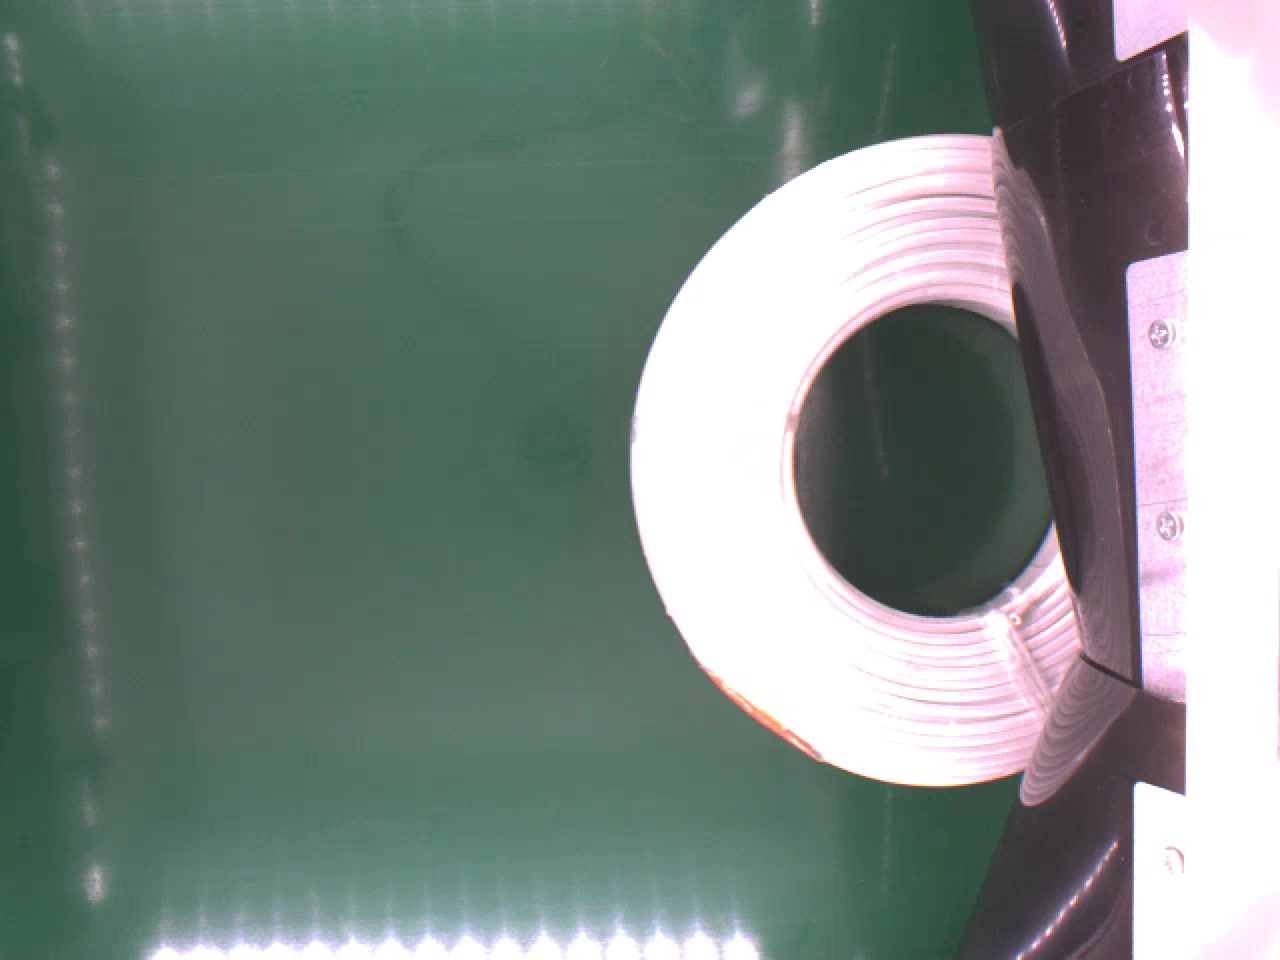white: (621, 134, 1083, 790)
